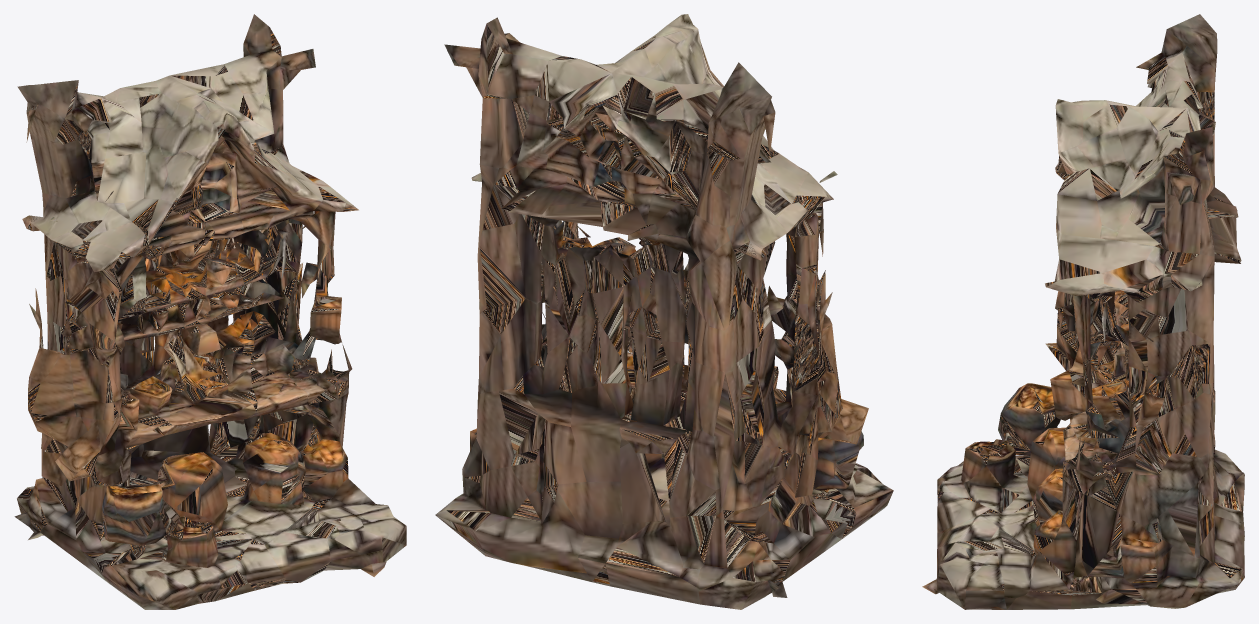
The model's file is lib_stall_timber.far.glb.
3 renders of one model, left to right at view 1: azimuth 30°, elevation 25°; view 2: azimuth 150°, elevation 25°; view 3: azimuth 270°, elevation 25°, orthographic. The views are drawn at different scales.
Size of the model in its own units: 1.35 by 1.87 by 1.16.
Materials: 1 (1 with a texture image).
